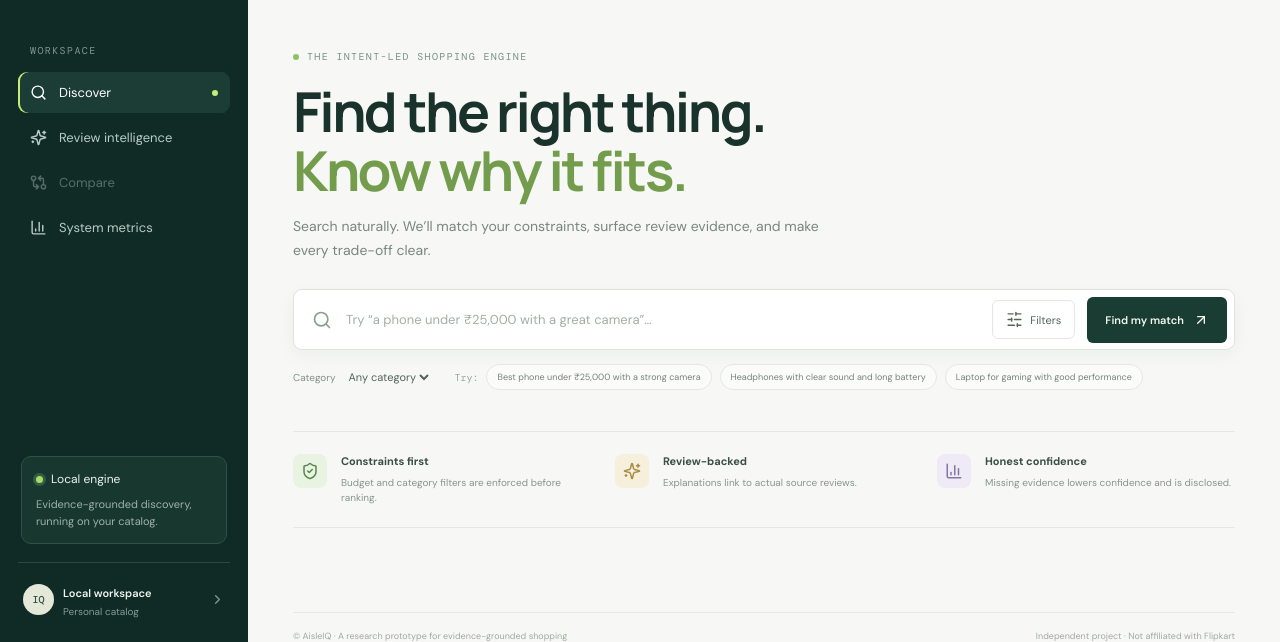
Test: AisleIQ discovery flow › compares three selected products and shows missing review information
In the field named "describe what you are looking for": (662, 320) [344,310,980,330], type "phone"
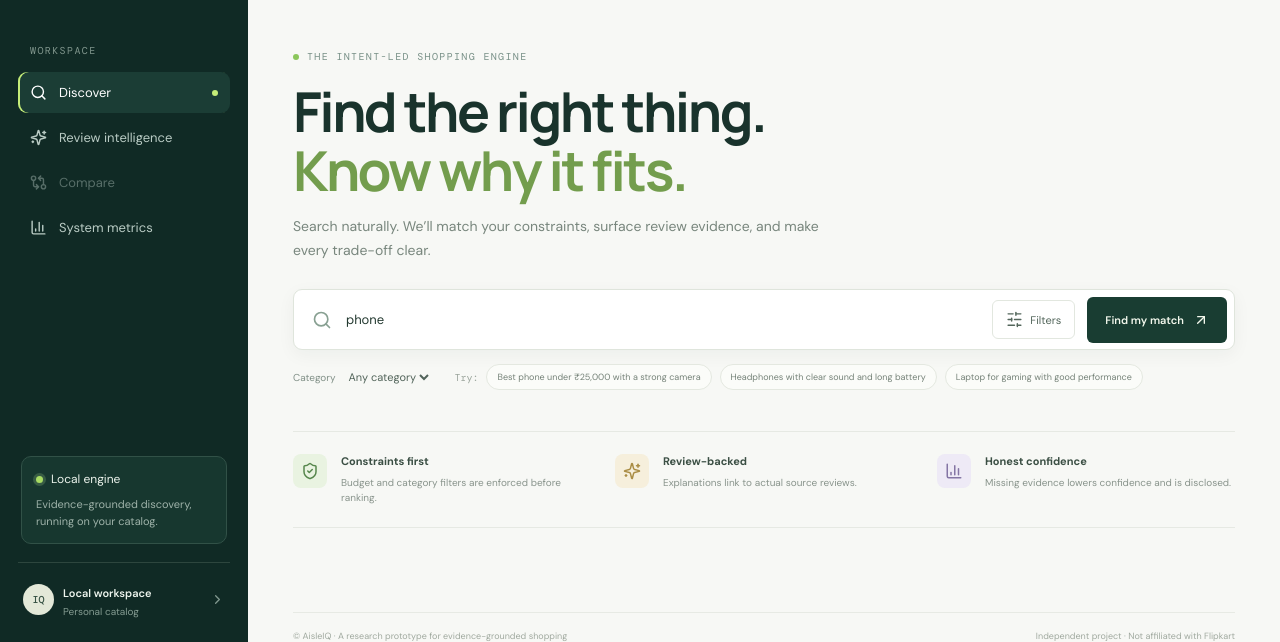
Click the button "Find my match": (1157, 320) [1087,297,1227,343]
(page scrolled)
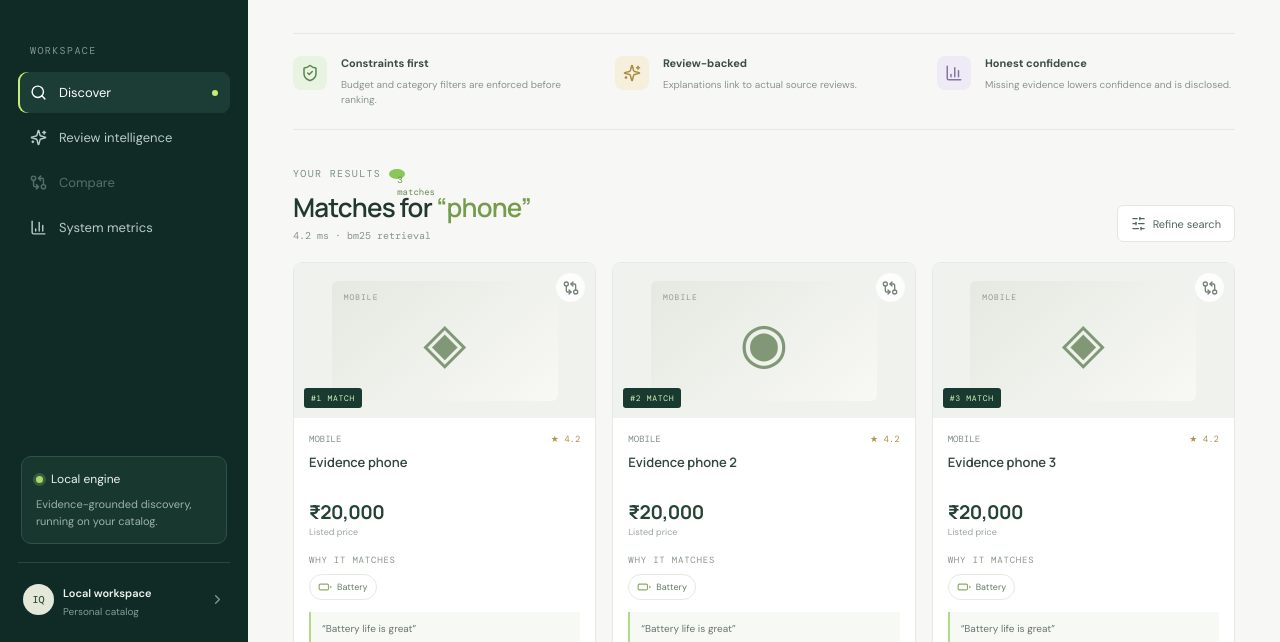
Expected: the button "Evidence phone 3" is shown, [948,454,1056,472]
Click the 1st button named "Add to compare": (571, 288) [556,274,585,302]
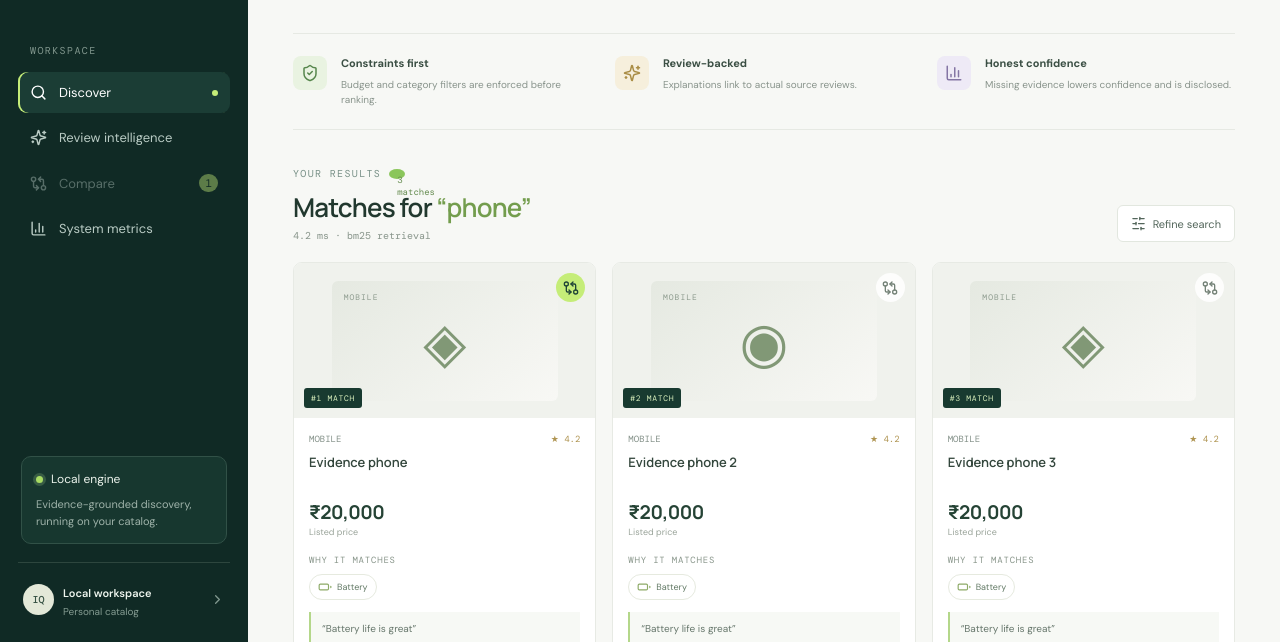
Click the 2nd button named "Add to compare": (890, 288) [876,274,905,302]
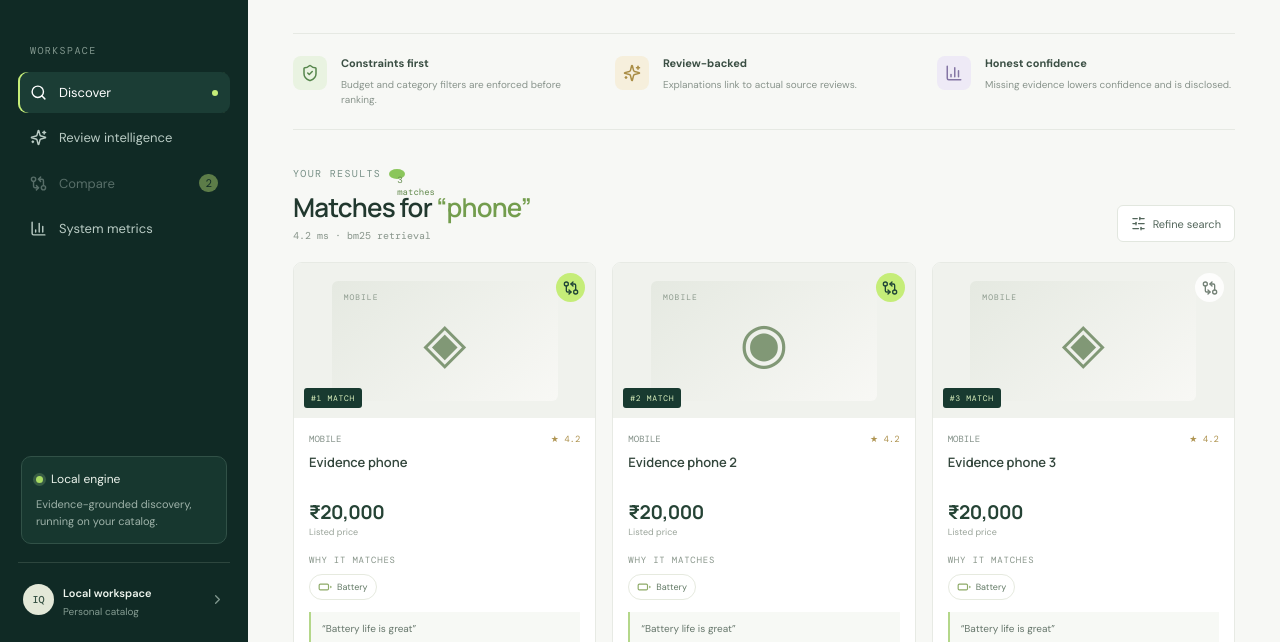
Click the 3rd button named "Add to compare": (1210, 288) [1195,274,1224,302]
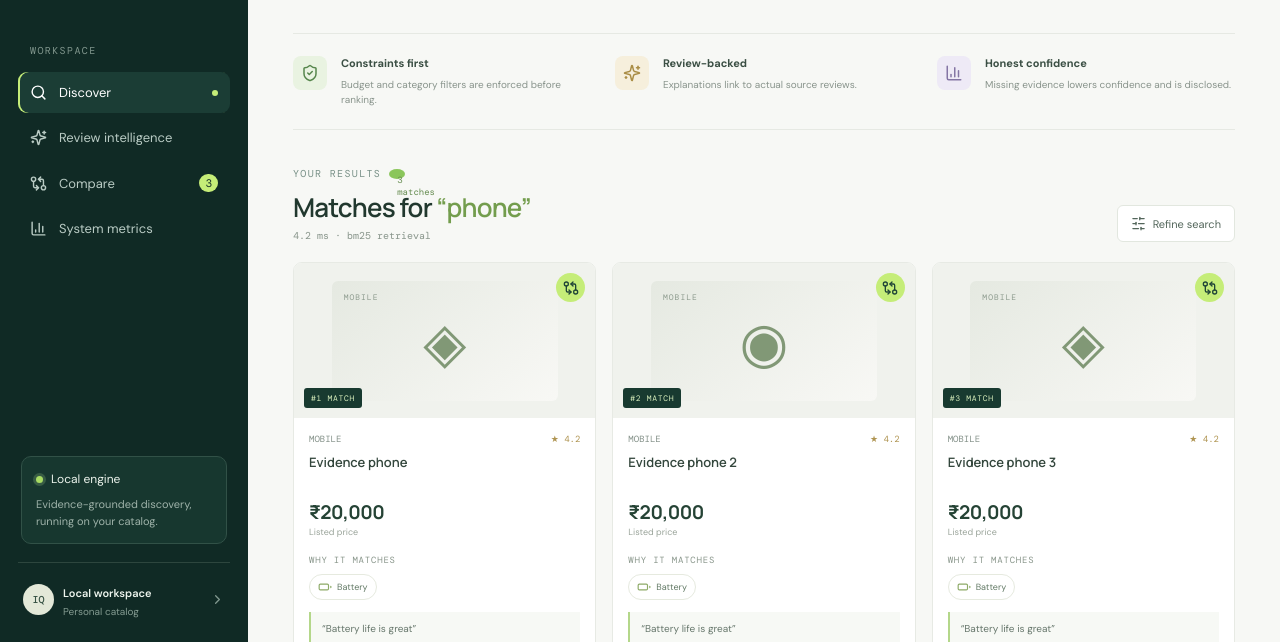
Click the button "Compare 3": (124, 183) [18,162,230,204]
(page scrolled)
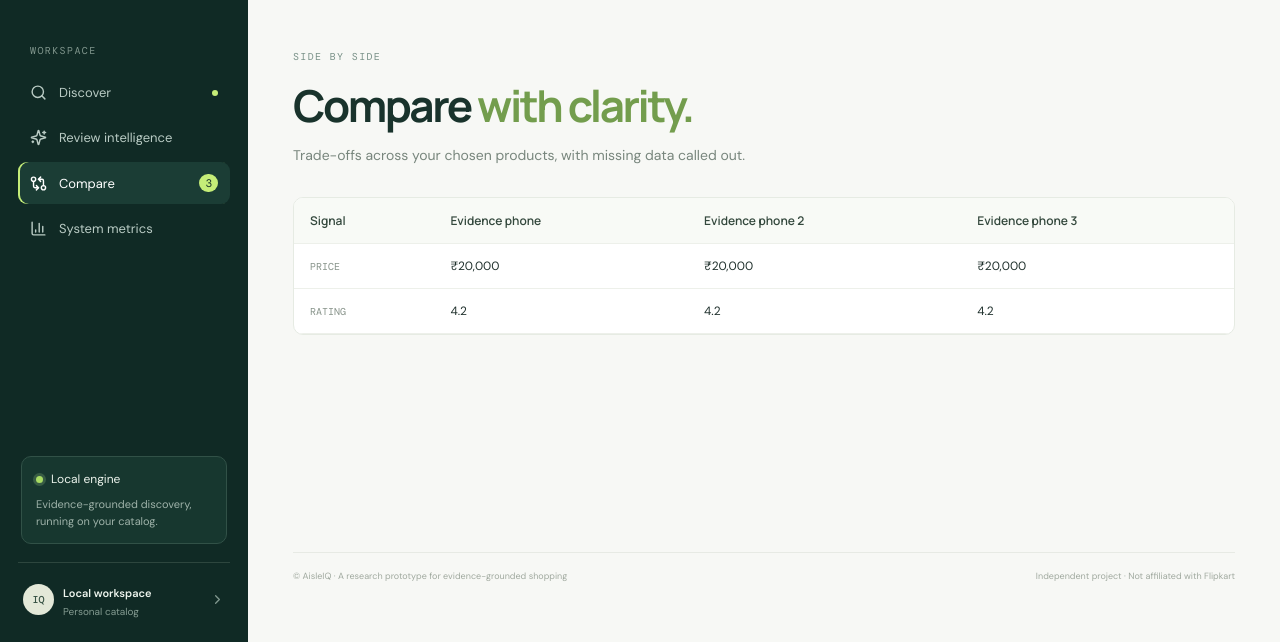
Expected: the column heading "Evidence phone 2" is shown, [688,198,961,244]
Expected: the heading "Compare with clarity." is shown, [293,75,693,135]
